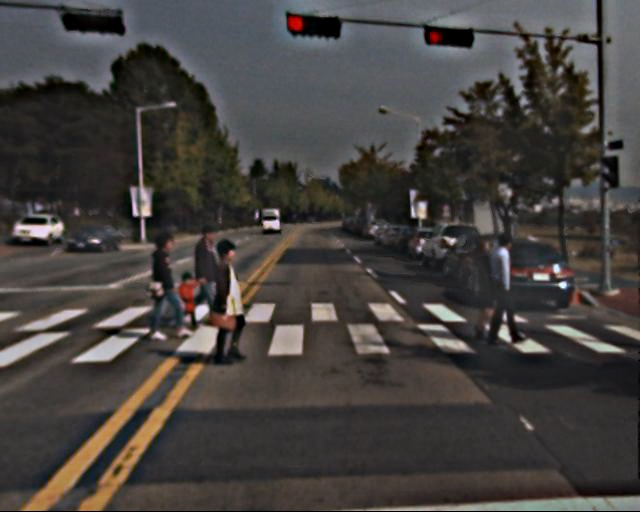person: (202, 237, 255, 366), (478, 233, 524, 346), (142, 233, 186, 341), (188, 224, 229, 324), (465, 236, 506, 336)
